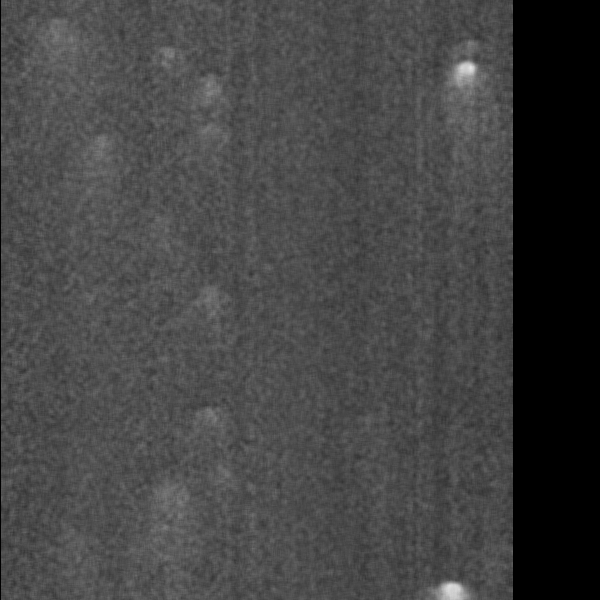spark: (98, 108, 166, 172), (30, 30, 68, 66), (219, 435, 238, 456)
